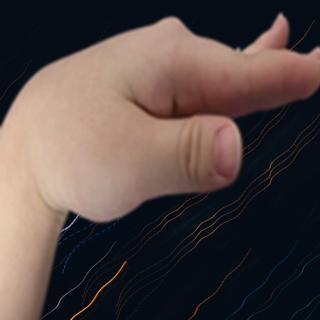Wait: (16, 8, 320, 227)
